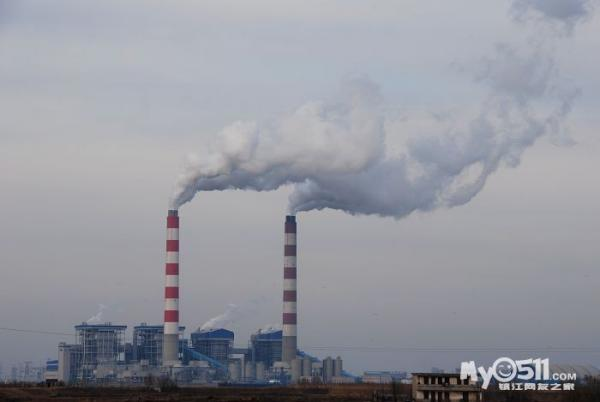dust: (280, 113, 478, 225), (162, 105, 347, 218)
